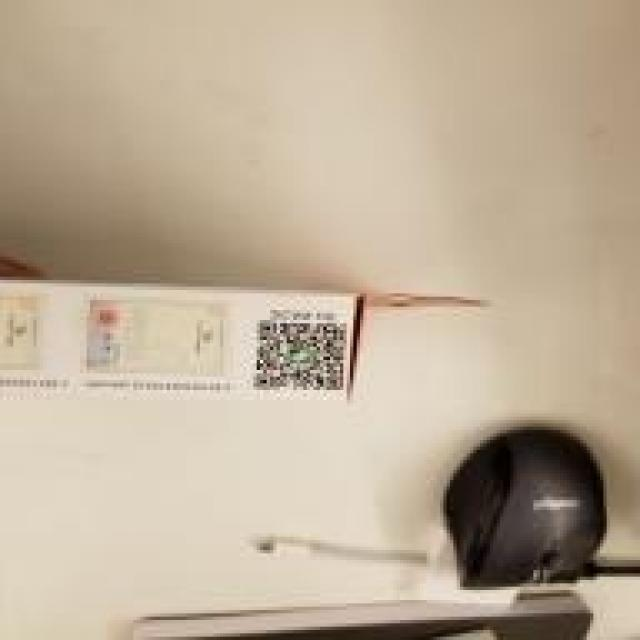qr_code: (257, 319, 346, 391)
